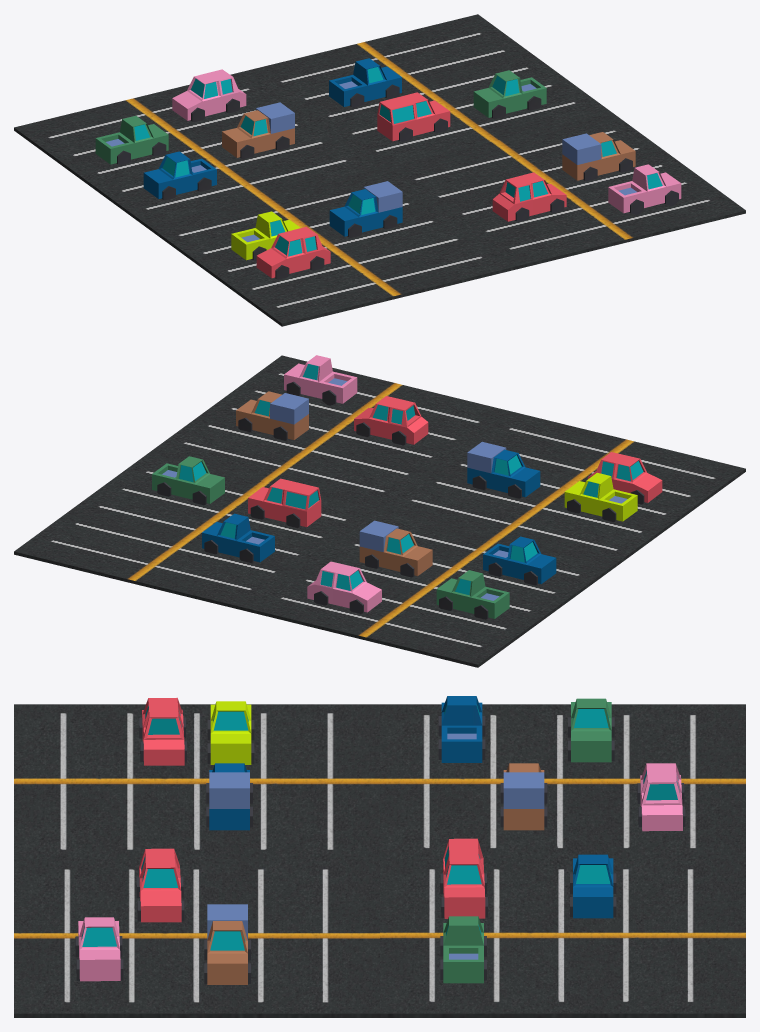
The model's file is Parking_Lot.fbx.
The picture shows the model from 3 angles, top to bottom: view 1: azimuth 30°, elevation 25°; view 2: azimuth 150°, elevation 25°; view 3: azimuth 270°, elevation 25°; orthographic projection. The views are drawn at different scales.
Visible parts, largest first — view 1: Cube.034; view 2: Cube.034; view 3: Cube.034.
Part boxes in pixels (x1,y1,x2,y2): Cube.034: (14,14,745,326); Cube.034: (14,355,745,667); Cube.034: (14,696,745,1017).
Bounding box in the file's own units: 4015 × 307 × 4015.
